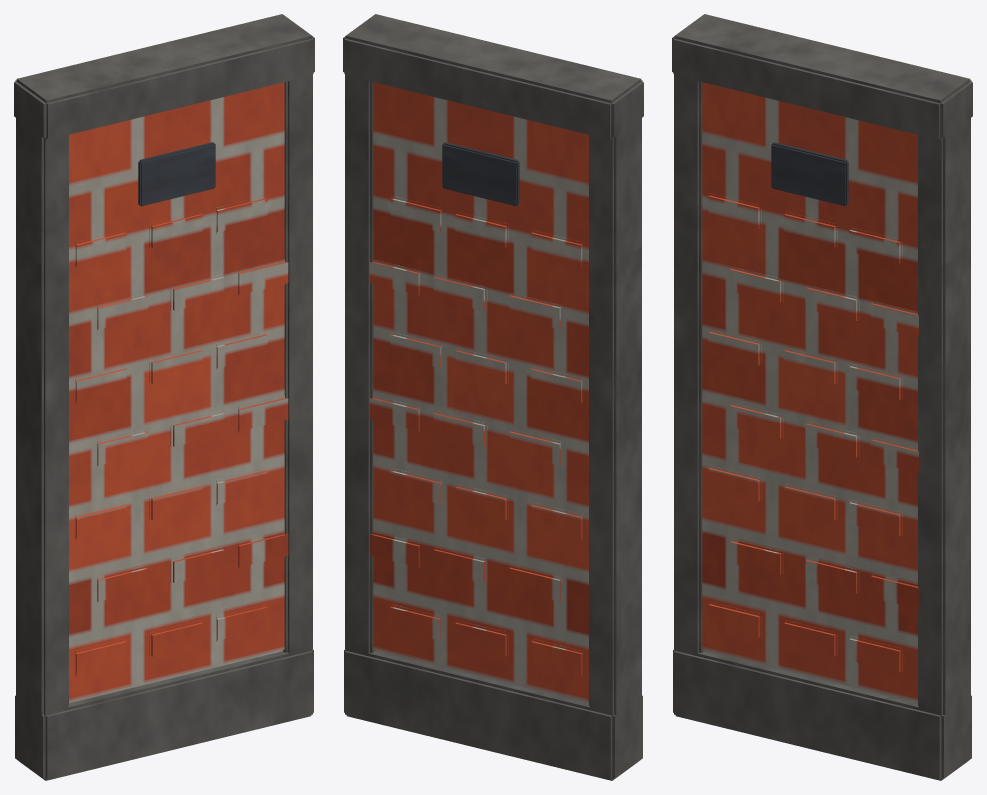
File: wall_brick.glb
3 views of the same model, side by side, from view 1: azimuth 30°, elevation 25°; view 2: azimuth 150°, elevation 25°; view 3: azimuth 330°, elevation 25° (orthographic).
Visible parts, largest first — view 1: wall_brick; view 2: wall_brick; view 3: wall_brick.
Boxes of the visible parts, x1=… form: wall_brick: x1=14, y1=14, x2=314, y2=780; wall_brick: x1=343, y1=14, x2=643, y2=780; wall_brick: x1=672, y1=14, x2=972, y2=780.
Bounding box in the file's own units: 1 × 2.4 × 0.21.
Materials: 3 (3 with a texture image).
